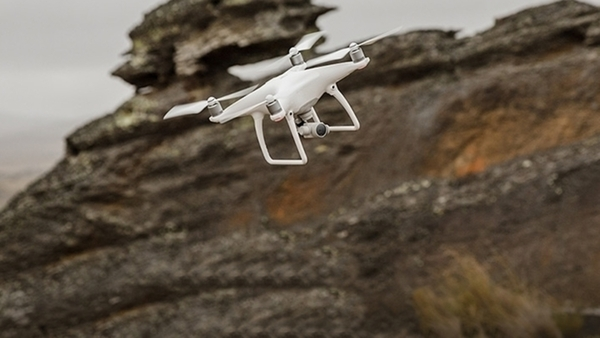drone: (163, 24, 408, 168)
